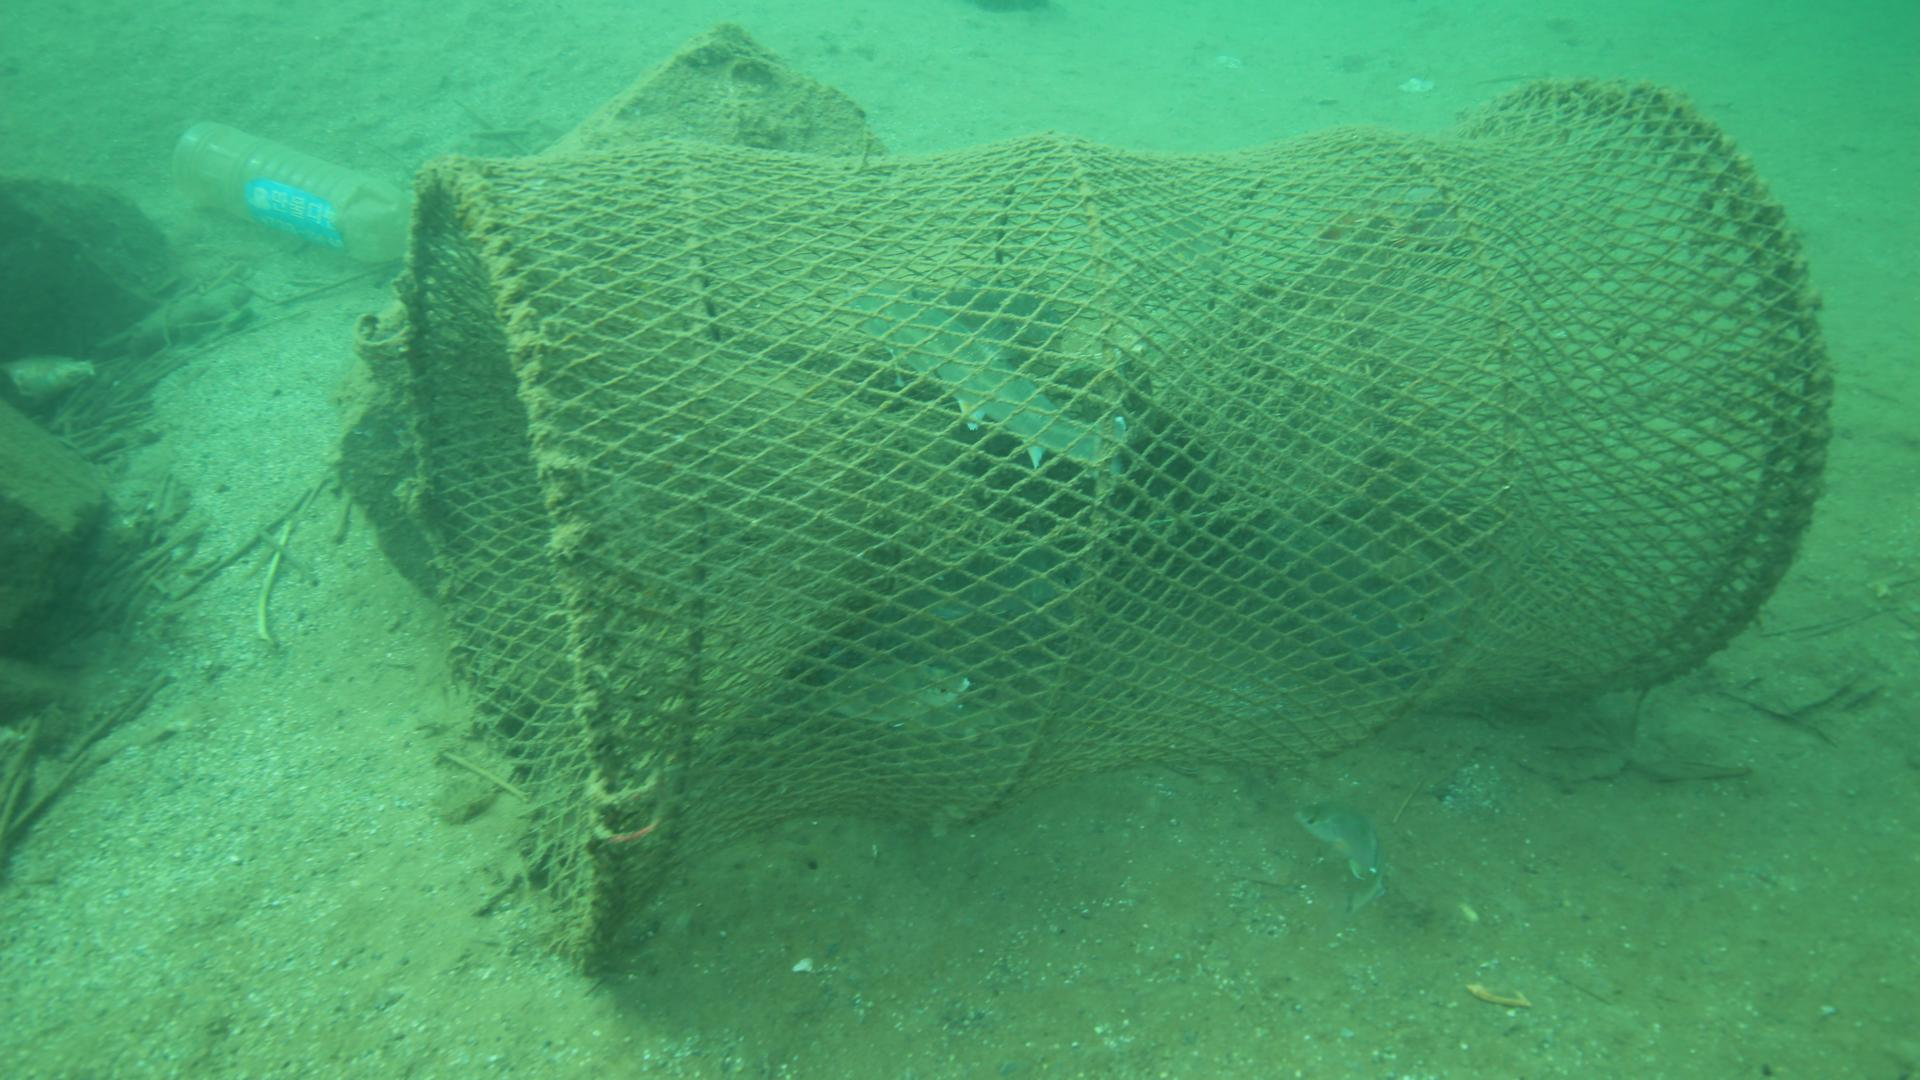spring fish trap: (386, 75, 1834, 971)
